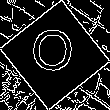O_S: (30, 27, 80, 83)
